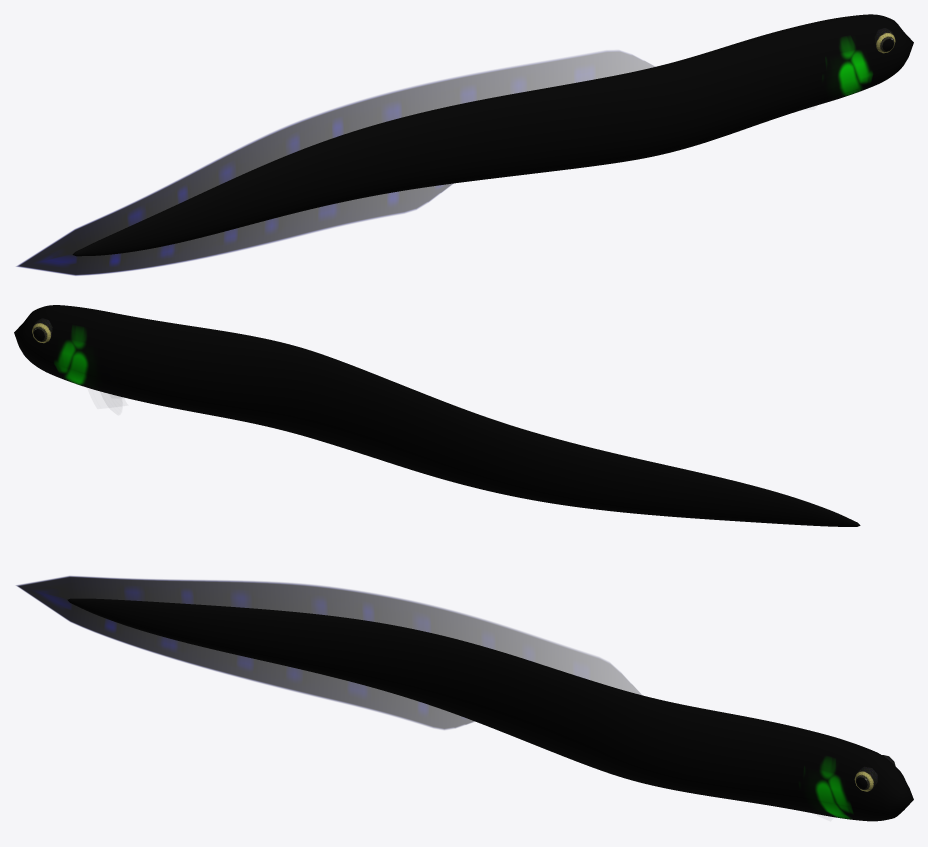
The model's file is engineer_goby.glb.
The picture shows the model from 3 angles, top to bottom: view 1: azimuth 30°, elevation 25°; view 2: azimuth 150°, elevation 25°; view 3: azimuth 330°, elevation 25°; orthographic projection.
Visible parts, largest first — view 1: Body, FinDorsal; view 2: Body; view 3: Body, FinDorsal.
Boxes of the visible parts, x1=… form: Body: x1=72, y1=14, x2=913, y2=256; FinDorsal: x1=16, y1=50, x2=655, y2=275; Body: x1=14, y1=305, x2=860, y2=526; Body: x1=67, y1=598, x2=913, y2=821; FinDorsal: x1=16, y1=576, x2=641, y2=729.
Bounding box in the file's own units: 1 × 0.1393 × 0.1147.
Materials: 4 (3 with a texture image).
